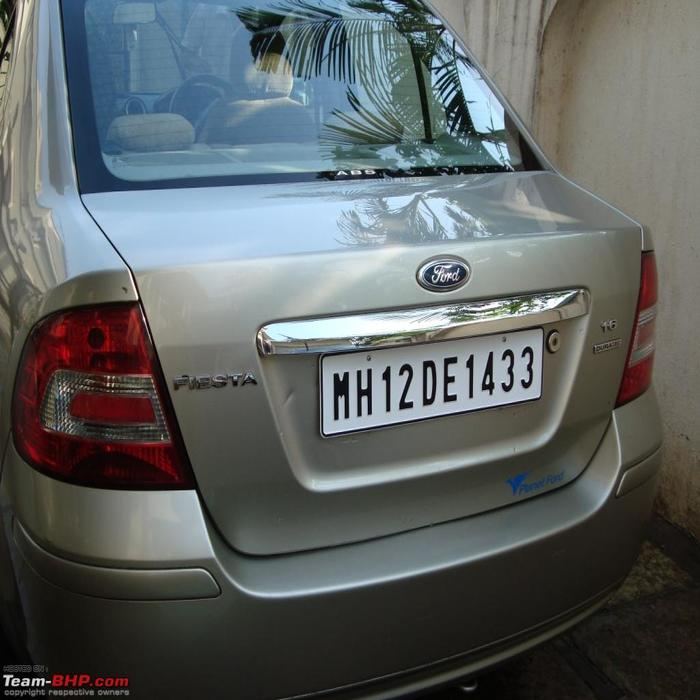n: (298, 326, 542, 441)
